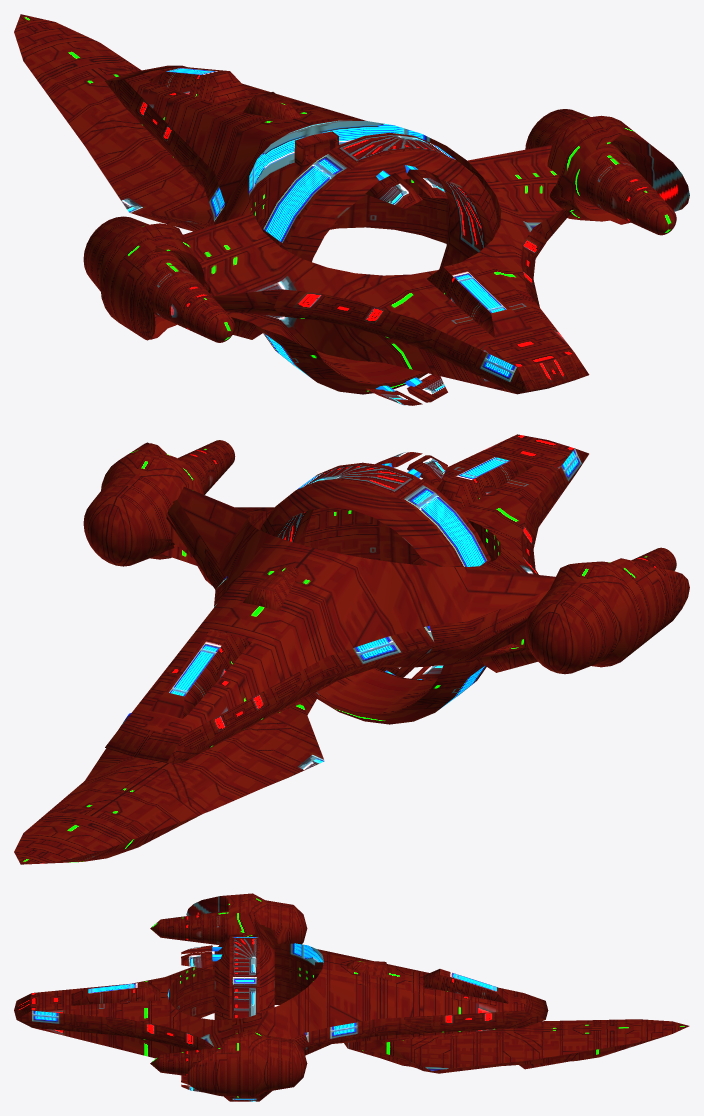
Rendered from Vul_Mirres.fbx.
3 views of the same model, one above another, from view 1: azimuth 30°, elevation 25°; view 2: azimuth 150°, elevation 25°; view 3: azimuth 270°, elevation 25° (orthographic). The views are drawn at different scales.
Visible parts, largest first — view 1: Vul_Mirres; view 2: Vul_Mirres; view 3: Vul_Mirres.
Part boxes in pixels (x1,y1,x2,y2): Vul_Mirres: [14, 14, 689, 405]; Vul_Mirres: [14, 434, 689, 864]; Vul_Mirres: [14, 893, 689, 1101].
Size of the model in its own units: 384 by 162 by 667.
1 material, 1 textured.
